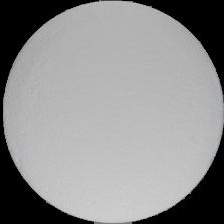51655-549: (0, 0, 224, 224)
